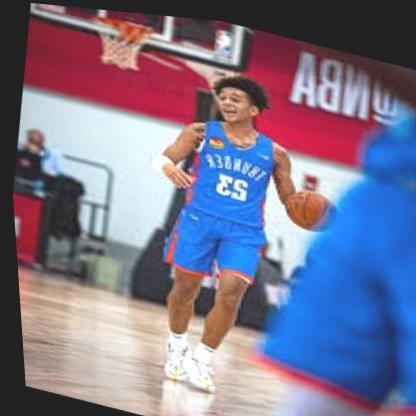basketball: (278, 180, 342, 232)
rim: (88, 11, 154, 33)
